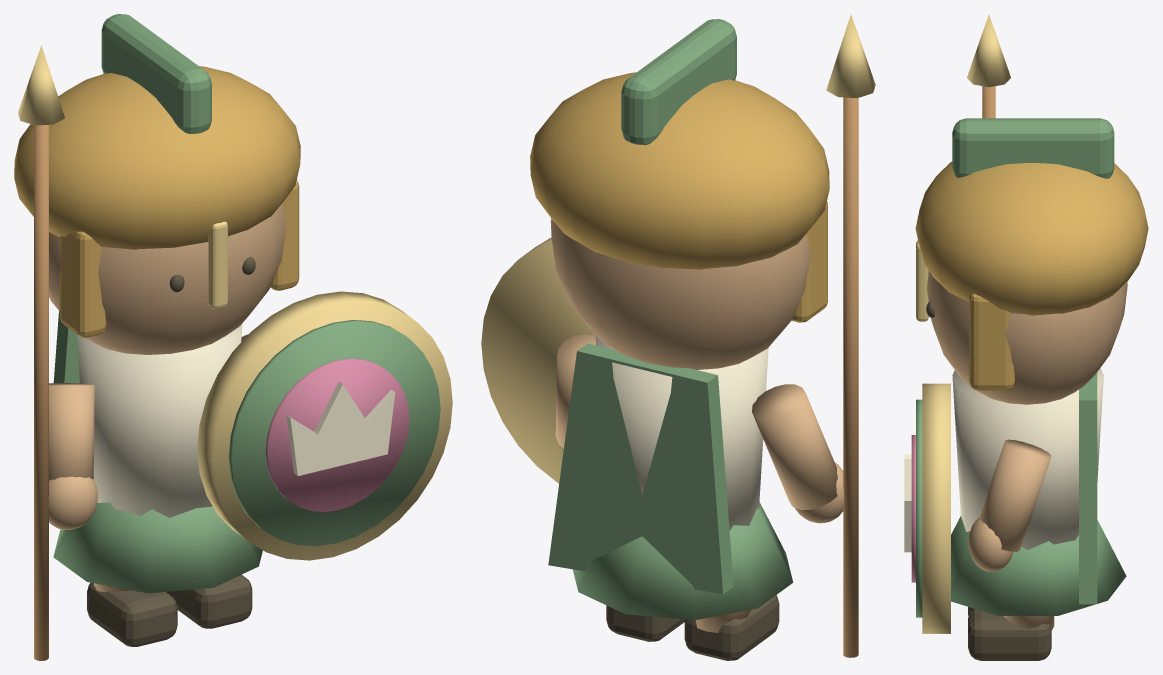
The model's file is chibi.glb.
3 views of the same model, side by side, from view 1: azimuth 30°, elevation 25°; view 2: azimuth 150°, elevation 25°; view 3: azimuth 270°, elevation 25° (orthographic). The views are drawn at different scales.
Visible parts, largest first — view 1: Bronze helmet.003, Shield face.006, Linen cuirass.001, Face.003, Shield rim.003, Pleated green skirt.001, Shield face.007, Spear shaft.003, Green crest.003, Crown relief.003, Arm.006, Sandal.004 (+7 smaller); view 2: Bronze helmet.003, Cape.003, Face.003, Shield rim.003, Pleated green skirt.001, Linen cuirass.001, Spear shaft.003, Green crest.003, Arm.006, Sandal.004, Spear tip.003, Cheek guard.006 (+4 smaller); view 3: Bronze helmet.003, Linen cuirass.001, Face.003, Pleated green skirt.001, Green crest.003, Shield rim.003, Arm.007, Cape.003, Cheek guard.007, Sandal.005, Spear tip.003, Shield face.006 (+6 smaller).
Part boxes in pixels (x1,y1,x2,y2): Bronze helmet.003: (14, 66, 300, 249); Shield face.006: (228, 320, 440, 546); Linen cuirass.001: (77, 324, 242, 517); Face.003: (49, 203, 285, 354); Shield rim.003: (197, 291, 452, 560); Pleated green skirt.001: (53, 502, 262, 593); Shield face.007: (265, 358, 409, 511); Spear shaft.003: (34, 125, 48, 660); Green crest.003: (101, 14, 211, 133); Crown relief.003: (286, 381, 395, 475); Arm.006: (49, 383, 94, 480); Sandal.004: (87, 582, 177, 646); Bronze helmet.003: (530, 72, 829, 269); Cape.003: (548, 343, 733, 594); Face.003: (550, 218, 811, 369); Shield rim.003: (481, 237, 595, 483); Pleated green skirt.001: (572, 502, 793, 620); Linen cuirass.001: (595, 335, 768, 530); Spear shaft.003: (843, 97, 858, 657); Green crest.003: (621, 19, 736, 145); Arm.006: (752, 384, 837, 509); Sandal.004: (684, 595, 779, 660); Spear tip.003: (826, 14, 875, 98); Cheek guard.006: (792, 201, 827, 322); Bronze helmet.003: (915, 161, 1148, 315); Linen cuirass.001: (952, 368, 1103, 549); Face.003: (927, 270, 1127, 404); Pleated green skirt.001: (951, 516, 1126, 615); Green crest.003: (952, 118, 1114, 178); Shield rim.003: (922, 383, 950, 633); Arm.007: (979, 439, 1051, 551); Cape.003: (1079, 372, 1097, 604); Cheek guard.007: (969, 294, 1014, 390); Sandal.005: (968, 608, 1051, 660); Spear tip.003: (967, 14, 1010, 87); Shield face.006: (916, 399, 922, 617).
Bounding box in the file's own units: 1.59 × 2.37 × 0.9352.
